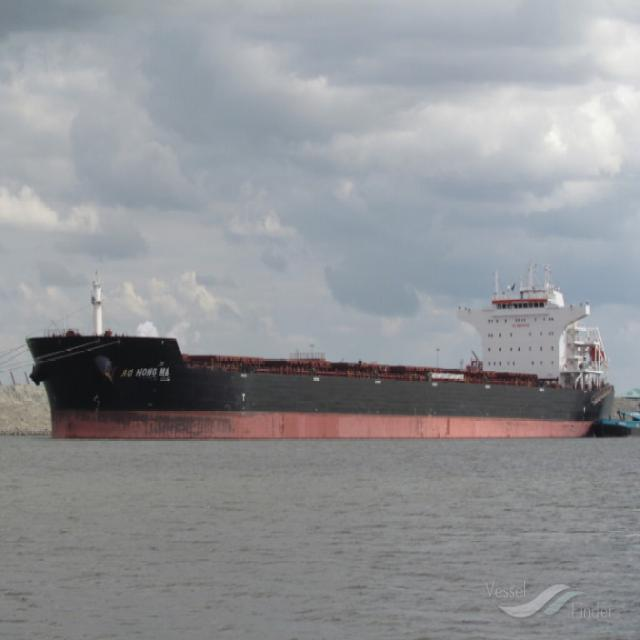OCR: (119, 361, 176, 385)
